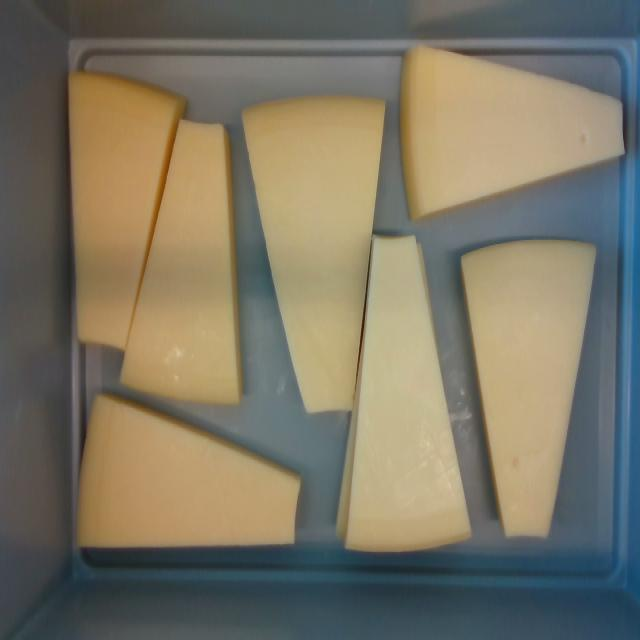cheese: (244, 97, 384, 411), (463, 241, 593, 536), (401, 47, 623, 219), (347, 236, 468, 551), (79, 396, 299, 545), (123, 125, 237, 400), (71, 77, 173, 347)
